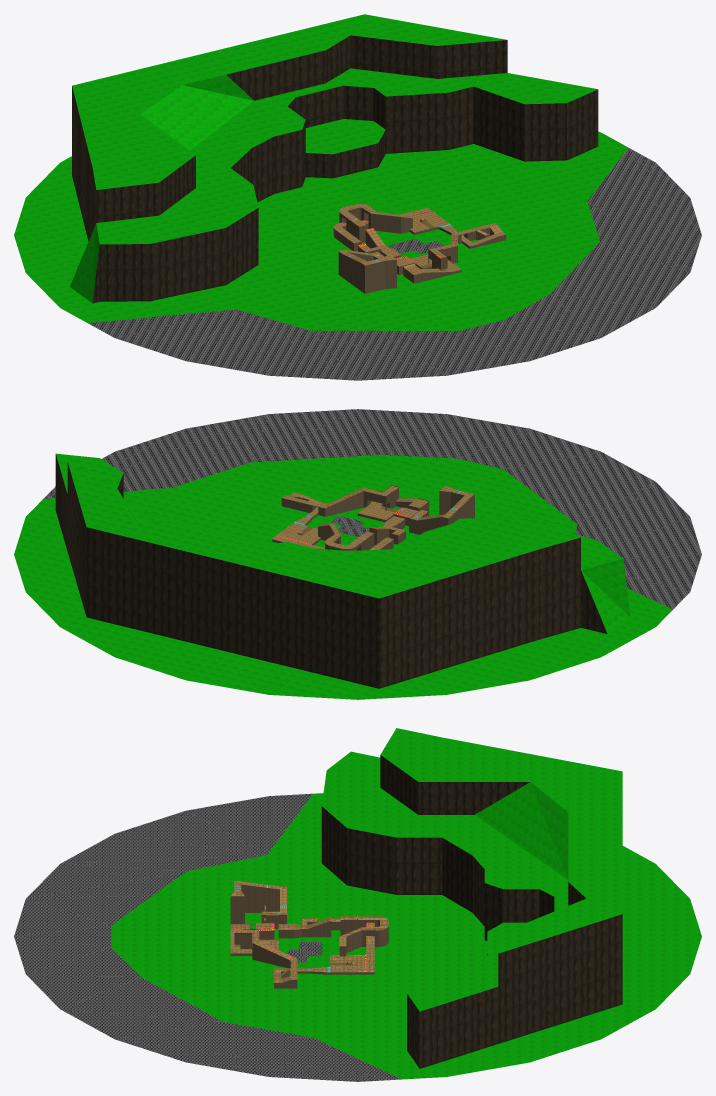
3 views of the same model, one above another, from view 1: azimuth 30°, elevation 25°; view 2: azimuth 150°, elevation 25°; view 3: azimuth 270°, elevation 25° (orthographic).
Visible parts, largest first — view 1: brres-SKP--grassfall, brres-SKP--rock, brres-SKP--water, brres-SKP--wood, brres-SKP--road.001, brres-SKP--roadsticky; view 2: brres-SKP--grassfall, brres-SKP--rock, brres-SKP--water, brres-SKP--wood, brres-SKP--road.001, brres-SKP--roadsticky; view 3: brres-SKP--grassfall, brres-SKP--water, brres-SKP--rock, brres-SKP--wood, brres-SKP--road.001, brres-SKP--roadsticky.
Part boxes in pixels (x1,y1,x2,y2): brres-SKP--grassfall: (14, 14, 628, 330); brres-SKP--rock: (72, 35, 598, 303); brres-SKP--water: (88, 147, 701, 380); brres-SKP--wood: (333, 207, 506, 293); brres-SKP--road.001: (333, 208, 505, 275); brres-SKP--roadsticky: (339, 204, 497, 266); brres-SKP--grassfall: (14, 453, 672, 699); brres-SKP--rock: (55, 454, 607, 688); brres-SKP--water: (43, 409, 701, 609); brres-SKP--wood: (272, 487, 474, 550); brres-SKP--road.001: (272, 492, 428, 550); brres-SKP--roadsticky: (282, 485, 474, 548); brres-SKP--grassfall: (111, 728, 701, 1079); brres-SKP--water: (14, 793, 401, 1081); brres-SKP--rock: (321, 755, 622, 1068); brres-SKP--wood: (230, 884, 388, 988); brres-SKP--road.001: (230, 916, 374, 982); brres-SKP--roadsticky: (231, 881, 388, 979).
Bounding box in the file's own units: 400596 × 57977 × 400596.
Materials: 14 (14 with a texture image).
